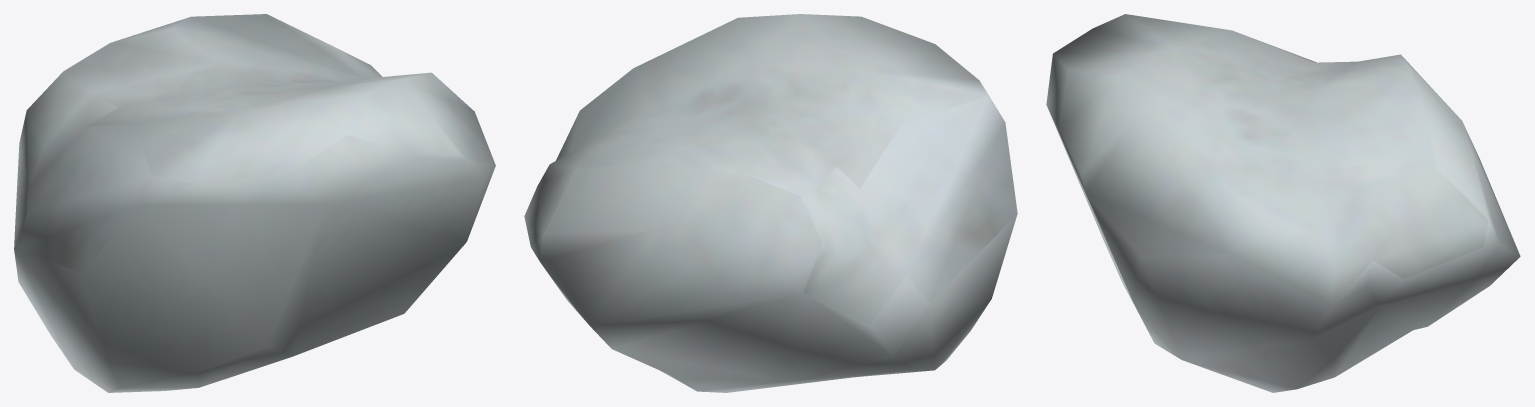
The model's file is P_RockClassic7.obj.
The picture shows the model from 3 angles, left to right: view 1: azimuth 30°, elevation 25°; view 2: azimuth 150°, elevation 25°; view 3: azimuth 270°, elevation 25°; orthographic projection. The views are drawn at different scales.
Size of the model in its own units: 2.16 by 1.52 by 2.18.
